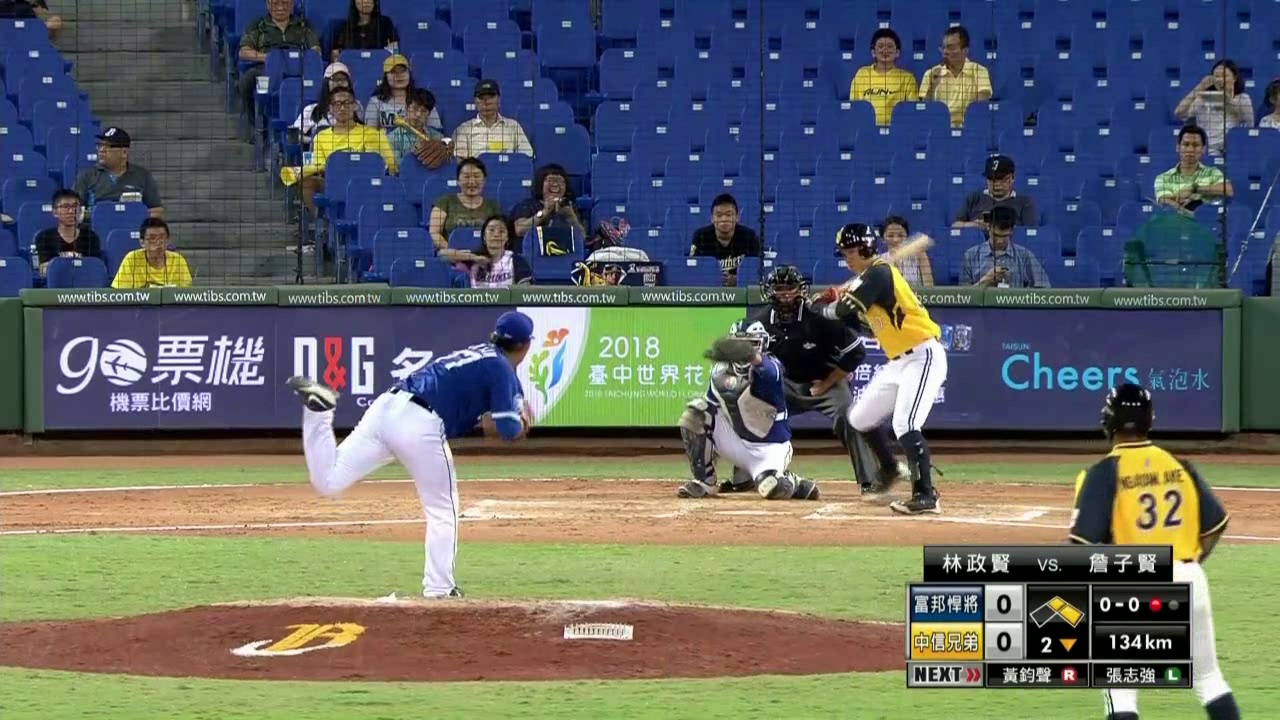base: (1029, 592, 1086, 628)
bat: (824, 229, 933, 296)
out: (1146, 588, 1183, 621)
score1: (987, 586, 1021, 620)
score2: (989, 625, 1020, 655)
session: (1028, 630, 1088, 660)
speed: (1093, 629, 1185, 658)
strikeball: (1093, 587, 1143, 621)
